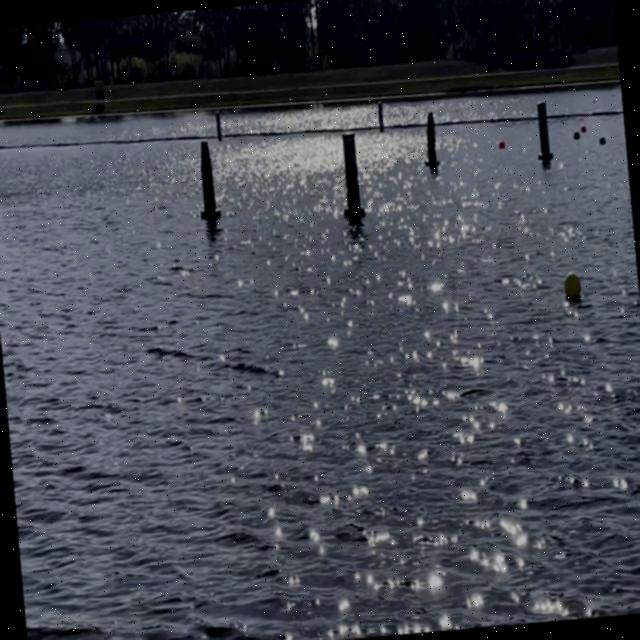buoy: (563, 272, 582, 298)
